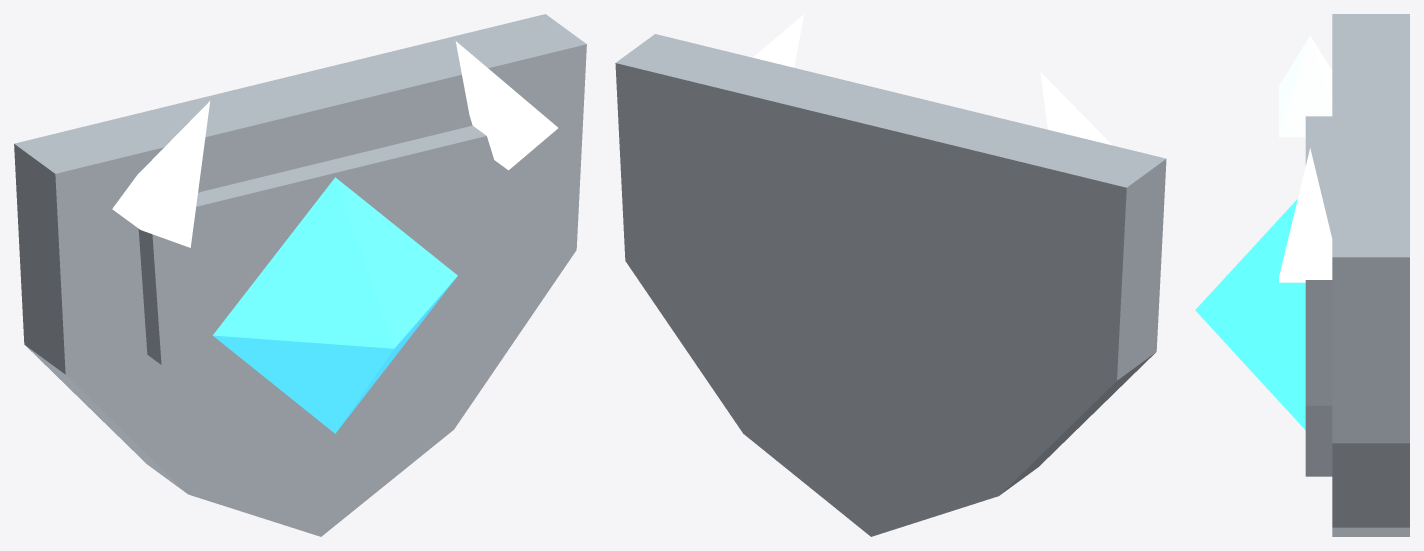
Rendered from Armor_Ice_Chest.fbx.
The picture shows the model from 3 angles, left to right: view 1: azimuth 30°, elevation 25°; view 2: azimuth 150°, elevation 25°; view 3: azimuth 270°, elevation 25°; orthographic projection. The views are drawn at different scales.
Parts seen in each view (by area): view 1: Armor_Ice_Chest; view 2: Armor_Ice_Chest; view 3: Armor_Ice_Chest.
Boxes of the visible parts, bbox=[...] form: Armor_Ice_Chest: bbox=[14, 14, 586, 536]; Armor_Ice_Chest: bbox=[615, 14, 1166, 536]; Armor_Ice_Chest: bbox=[1195, 14, 1409, 536].
Bounding box in the file's own units: 0.26 × 0.222 × 0.097.
